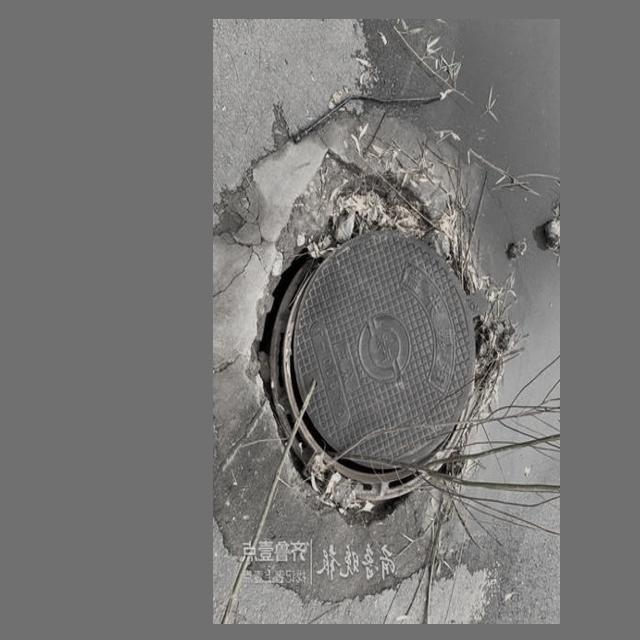circle: (218, 104, 525, 592)
